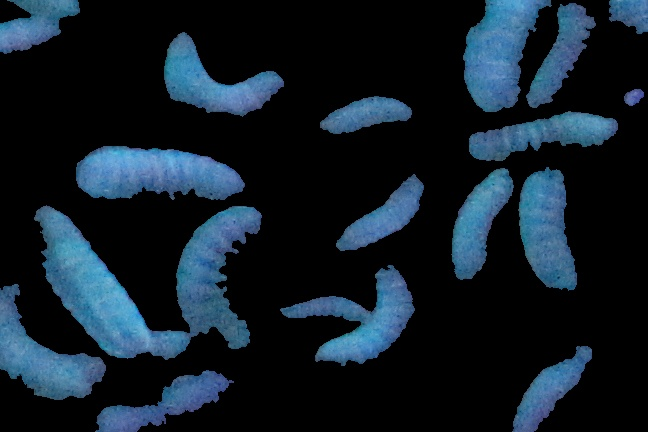larvae: (34, 205, 150, 357), (175, 203, 261, 352), (1, 284, 107, 399), (162, 30, 285, 117), (76, 145, 258, 199), (316, 266, 414, 365), (462, 1, 548, 112), (505, 342, 600, 432), (517, 167, 579, 291), (469, 111, 616, 161), (527, 1, 595, 107), (450, 167, 513, 279), (337, 175, 424, 253), (320, 88, 413, 136), (1, 14, 63, 53), (280, 297, 373, 322)
